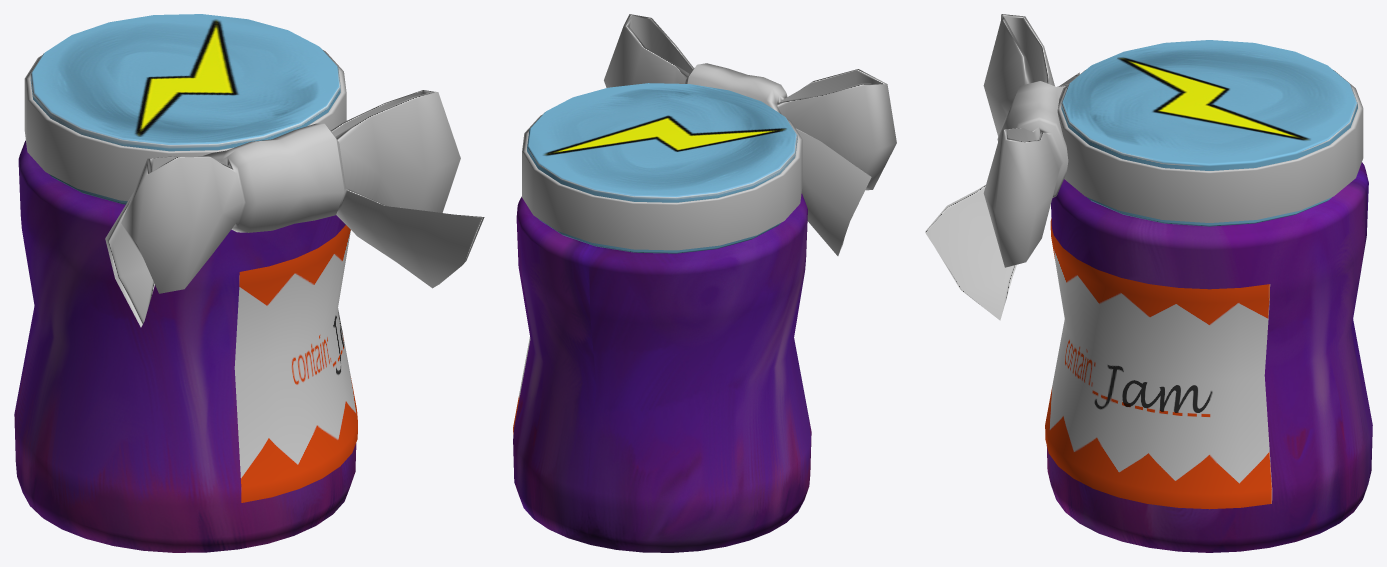
The model's file is JamJar_powerUp.fbx.
3 renders of one model, left to right at view 1: azimuth 30°, elevation 25°; view 2: azimuth 150°, elevation 25°; view 3: azimuth 270°, elevation 25°, orthographic. The views are drawn at different scales.
Visible parts, largest first — view 1: geo_jamJar; view 2: geo_jamJar; view 3: geo_jamJar.
Part boxes in pixels (x1,y1,x2,y2): geo_jamJar: (14,14,484,552); geo_jamJar: (513,14,896,552); geo_jamJar: (925,14,1372,552).
Size of the model in its own units: 13.02 by 16.93 by 16.45.
